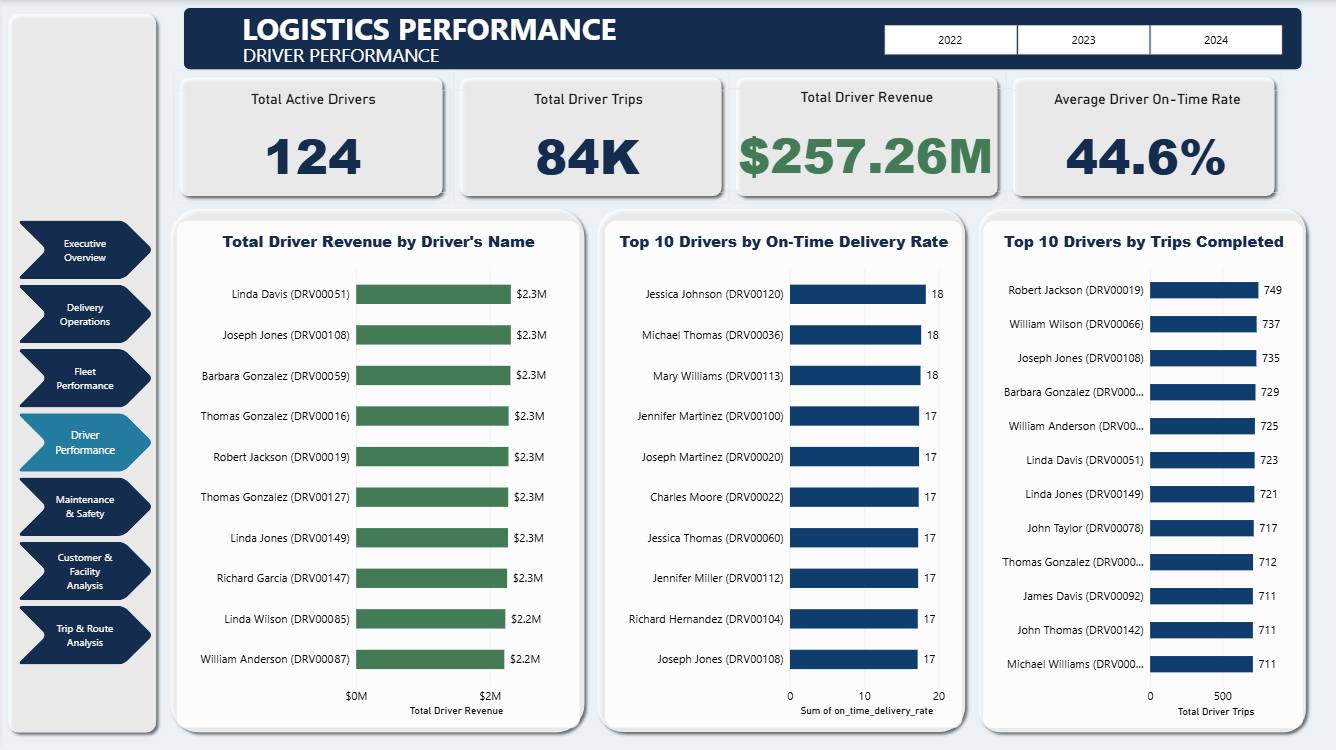

What the dashboard file says about the page in this screenshot:
{"tool":"powerbi","page":{"name":"Driver Performance","canvas":[1920,1080],"ordinal":3},"visuals":[{"type":"shape","box":[0,10,230,1047.5],"z":0},{"type":"shape","box":[260,10,1600,90],"z":1000},{"type":"shape","box":[245.2,100,395,190],"z":2000},{"type":"shape","box":[232,290,610,768],"z":3000},{"type":"shape","box":[842.5,290,545,767.5],"z":4000},{"type":"shape","box":[1388,290,486,768],"z":5000},{"type":"textbox","box":[230,10,762.5,70],"z":6000},{"type":"textbox","box":[267.5,60,432.5,42.5],"z":7000},{"type":"cardVisual","title":"Total Active Drivers","fields":{"Data":["All Measures.Total Active Drivers"]},"box":[247.6,128.6,395,147.5],"z":9000},{"type":"shape","box":[1040.5,100,395,190],"z":10000},{"type":"cardVisual","title":"Total Driver Revenue","fields":{"Data":["All Measures.Total Driver Revenue"]},"box":[1025,127.5,423.8,147.6],"z":11000},{"type":"clusteredBarChart","title":"Top 10 Drivers by Trips Completed","fields":{"Category":["drivers.Driver's Name"],"Y":["All Measures.Total Driver Trips"]},"box":[1402,316,458,728],"z":12000},{"type":"shape","box":[645.2,100,395,190],"z":13000},{"type":"cardVisual","title":"Total Driver Trips","fields":{"Data":["All Measures.Total Driver Trips"]},"box":[640.5,128.6,395,147.5],"z":14000},{"type":"pageNavigator","box":[22.5,315,195,637],"z":15000},{"type":"shape","box":[1435.7,100,395,190],"z":16000},{"type":"cardVisual","title":"Average Driver On-Time Rate","fields":{"Data":["All Measures.Average Driver On-Time Rate"]},"box":[1440.5,128.6,395,147.5],"z":17000},{"type":"barChart","fields":{"Category":["drivers.Driver's Name"],"Y":["All Measures.Total Driver Revenue"]},"box":[250,315,577.5,727.5],"z":18000},{"type":"clusteredBarChart","title":"Top 10 Drivers by On-Time Delivery Rate","fields":{"Category":["drivers.Driver's Name"],"Y":["Sum(driver_monthly_metrics.on_time_delivery_rate)"]},"box":[862.5,315,512.5,727.5],"z":19000},{"type":"slicer","fields":{"Values":["Calendar.Year"]},"box":[1242.5,35,607.5,45],"z":19001}]}

Visuals, with their boxes in screenshot pixels (x1, y1, x2, y2), scaled from the page's 1920x1080 canvas onto the 1336x750 screenshot:
shape: detection(0, 7, 160, 734)
shape: detection(181, 7, 1294, 69)
shape: detection(171, 69, 445, 201)
shape: detection(161, 201, 586, 735)
shape: detection(586, 201, 965, 734)
shape: detection(966, 201, 1304, 735)
textbox: detection(160, 7, 691, 56)
textbox: detection(186, 42, 487, 71)
"Total Active Drivers" cardVisual: detection(172, 89, 447, 192)
shape: detection(724, 69, 999, 201)
"Total Driver Revenue" cardVisual: detection(713, 89, 1008, 191)
"Top 10 Drivers by Trips Completed" clusteredBarChart: detection(976, 219, 1294, 725)
shape: detection(449, 69, 724, 201)
"Total Driver Trips" cardVisual: detection(446, 89, 721, 192)
pageNavigator: detection(16, 219, 151, 661)
shape: detection(999, 69, 1274, 201)
"Average Driver On-Time Rate" cardVisual: detection(1002, 89, 1277, 192)
barChart - drivers.Driver's Name x All Measures.Total Driver Revenue: detection(174, 219, 576, 724)
"Top 10 Drivers by On-Time Delivery Rate" clusteredBarChart: detection(600, 219, 957, 724)
slicer - Calendar.Year: detection(865, 24, 1287, 56)
